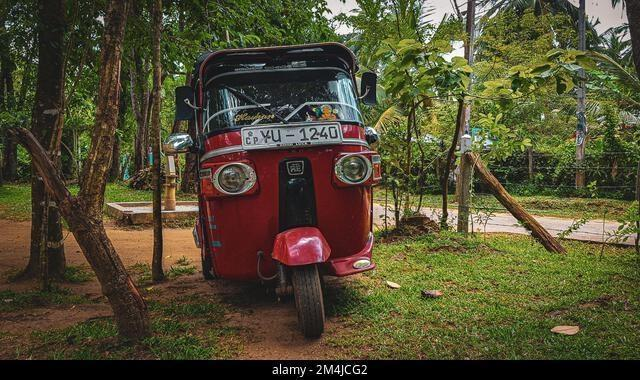keke: (162, 33, 387, 340)
